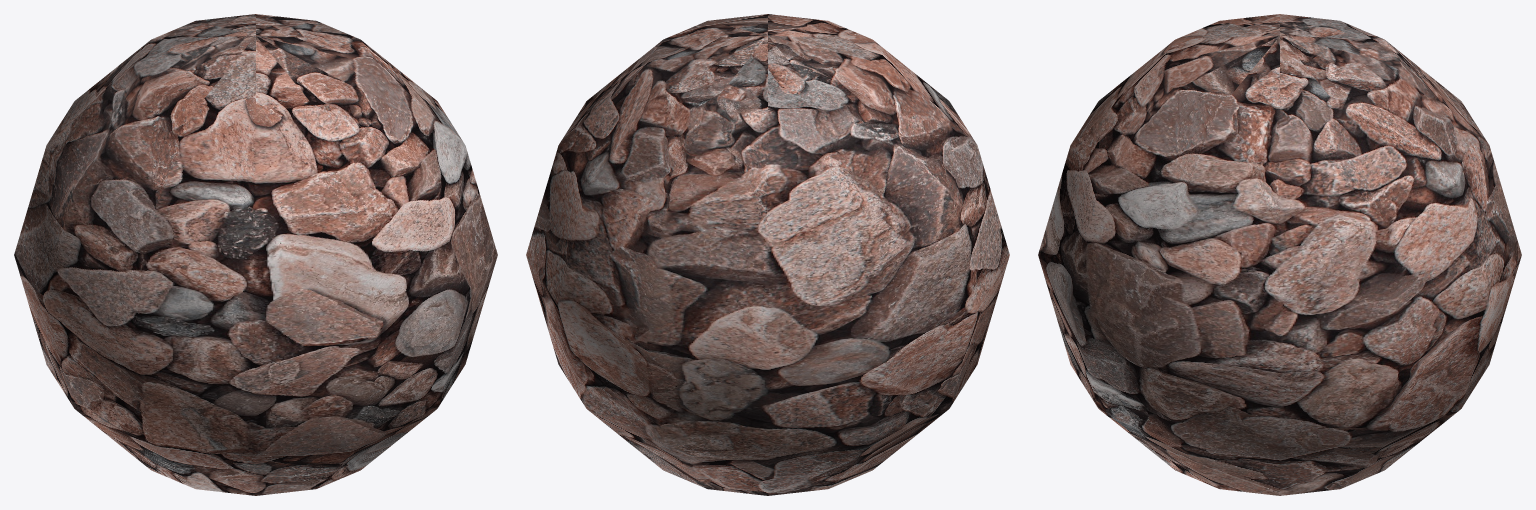
Rendered from simple_sphere_8.obj.
3 views of the same model, side by side, from view 1: azimuth 30°, elevation 25°; view 2: azimuth 150°, elevation 25°; view 3: azimuth 270°, elevation 25° (orthographic).
Visible parts, largest first — view 1: Sphere001; view 2: Sphere001; view 3: Sphere001.
Boxes of the visible parts, bbox=[...] form: Sphere001: bbox=[14, 14, 497, 495]; Sphere001: bbox=[526, 14, 1009, 495]; Sphere001: bbox=[1038, 14, 1521, 495].
Size of the model in its own units: 1.96 by 1.96 by 1.96.
